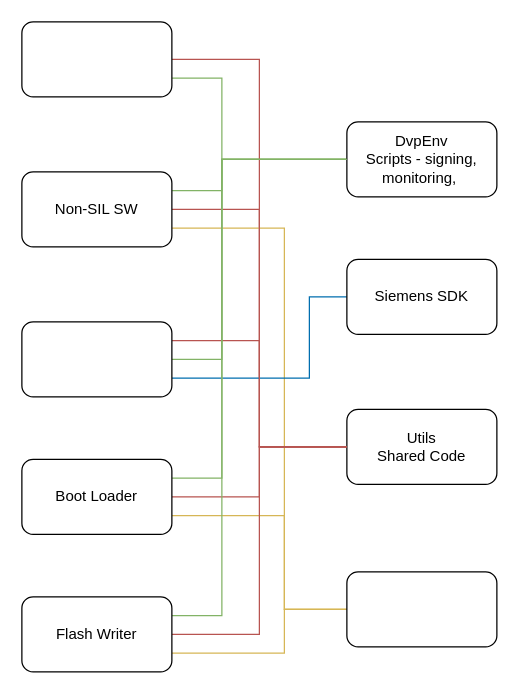
The diagram is 519 pixels wide and 694 high, and some of its shapes have lost their labels. Here are the shapes that lost their labels. From the top down, the centre of each, then its label:
[96,59]: Factory Test Runner
[96,359]: Safety SW
[421,609]: TI SDK
